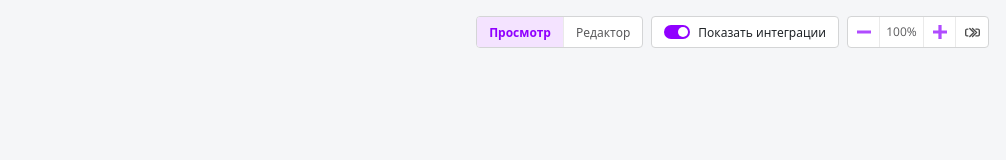
Test: Toolbar › в режиме «Редактор» появляются все три кнопки SPEC §4.4
What coordinates should you click on to do the following:
click the button "Редактор"
I would click on:
 (603, 32)
Its box is [564,17,642,47].
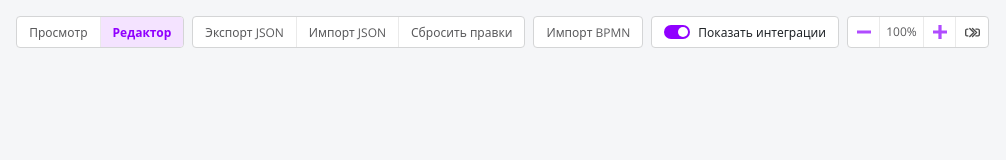
Now the button "Экспорт JSON" is shown, box [193,17,297,47]
Now the button "Импорт JSON" is shown, box [297,17,399,47]
Now the button "Сбросить правки" is shown, box [399,17,524,47]
